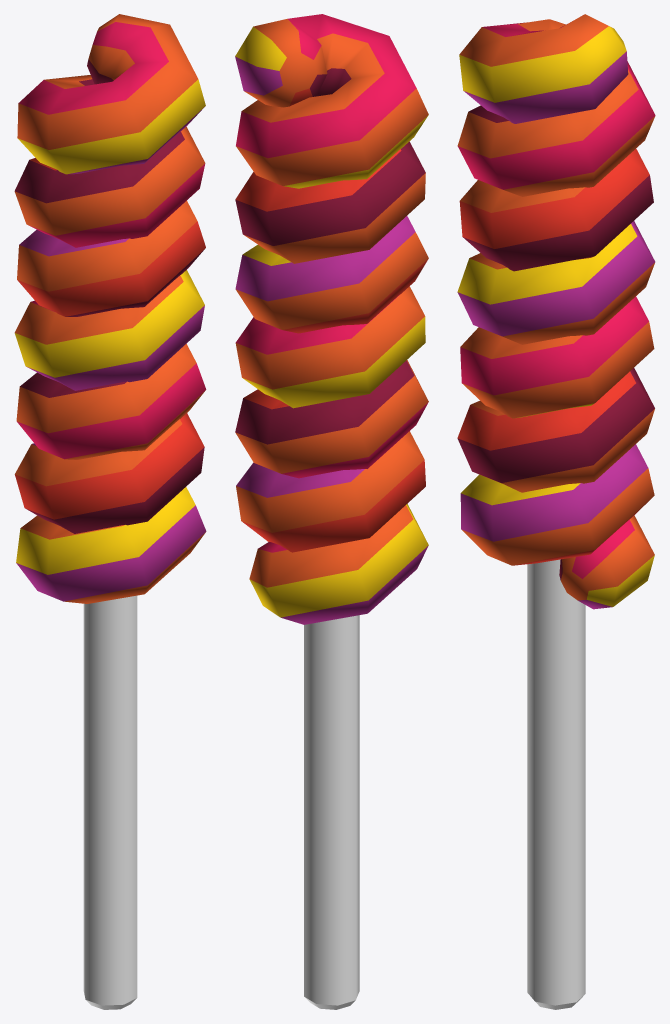
The model's file is Candy_17.fbx.
3 views of the same model, side by side, from view 1: azimuth 30°, elevation 25°; view 2: azimuth 150°, elevation 25°; view 3: azimuth 270°, elevation 25° (orthographic). The views are drawn at different scales.
Visible parts, largest first — view 1: Candy_17; view 2: Candy_17; view 3: Candy_17.
Part boxes in pixels (left/top/right/bottom): Candy_17: left=14, top=14, right=206, bottom=1009; Candy_17: left=235, top=14, right=428, bottom=1009; Candy_17: left=457, top=14, right=655, bottom=1009.
Size of the model in its own units: 0.4887 by 2.83 by 0.5112.
